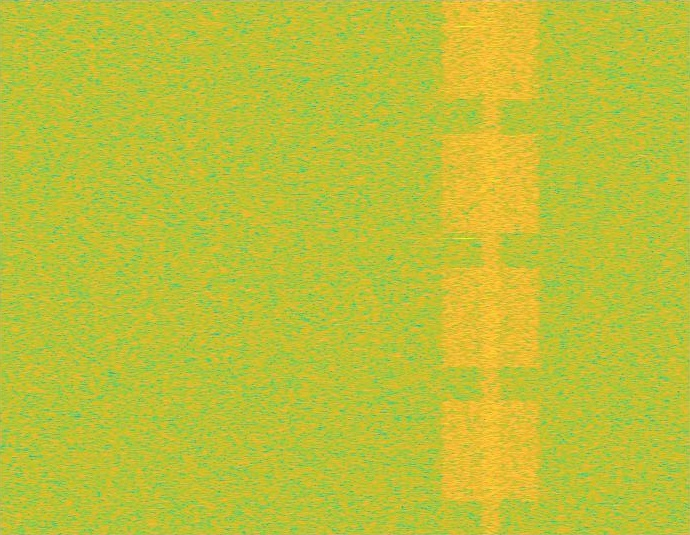5G: (439, 0, 542, 534)
DSSS: (479, 0, 502, 534)
Radar: (459, 0, 472, 534)
